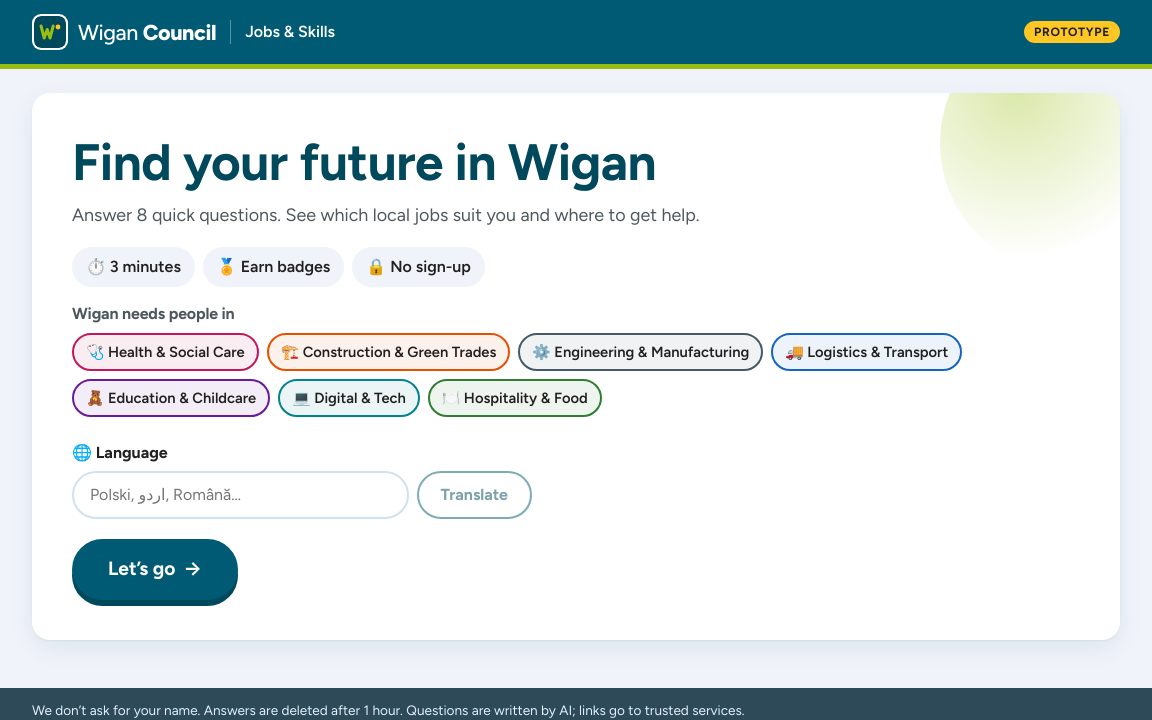
Test: resident journey (React UI ↔ Express API ↔ AI agent) › shows a friendly error with a retry when the server is unreachable
Click the button "Let’s go →": click(155, 570) [72,539,238,600]
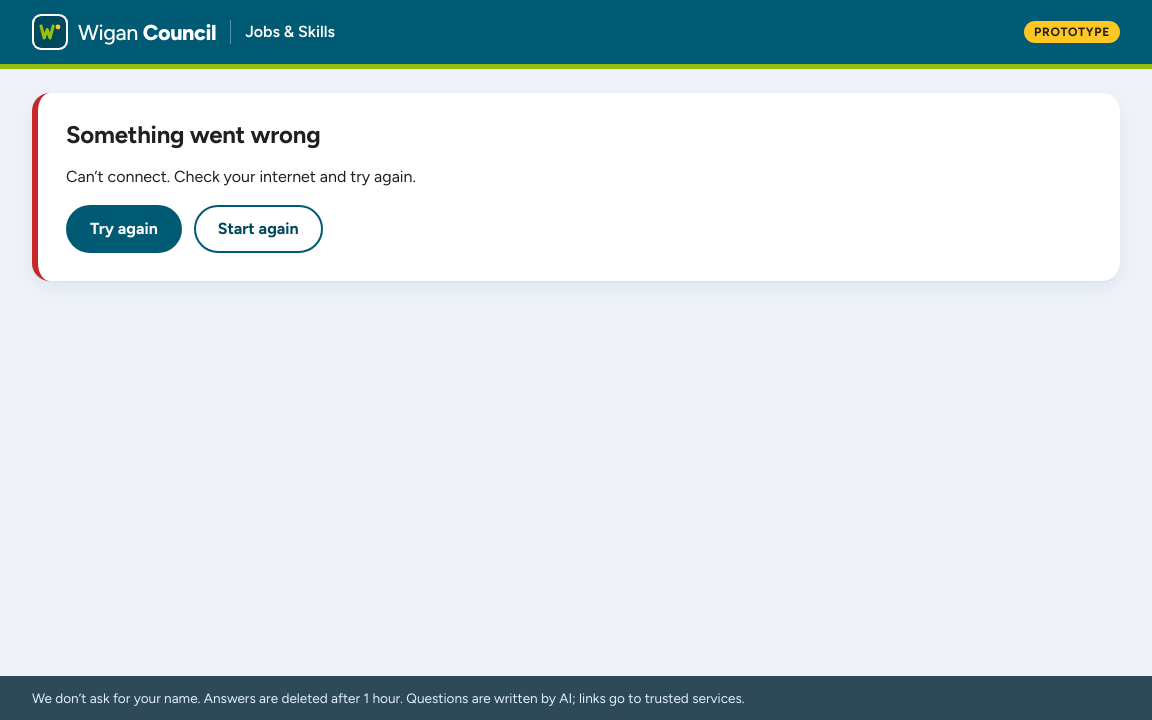
Expected: the message shows "Can’t connect", [66,167,416,186]
Expected: the button "Try again" is shown, [66,205,182,253]
